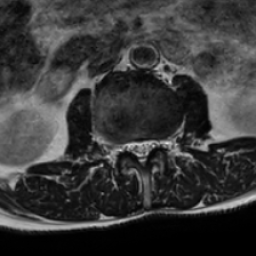CCS_normal: (137, 131, 147, 173)
LFS_stenosis: (157, 132, 165, 155)
LLS_normal: (147, 131, 155, 163)
RFS_stenosis: (118, 132, 130, 159)
RLS_normal: (128, 131, 137, 161)
